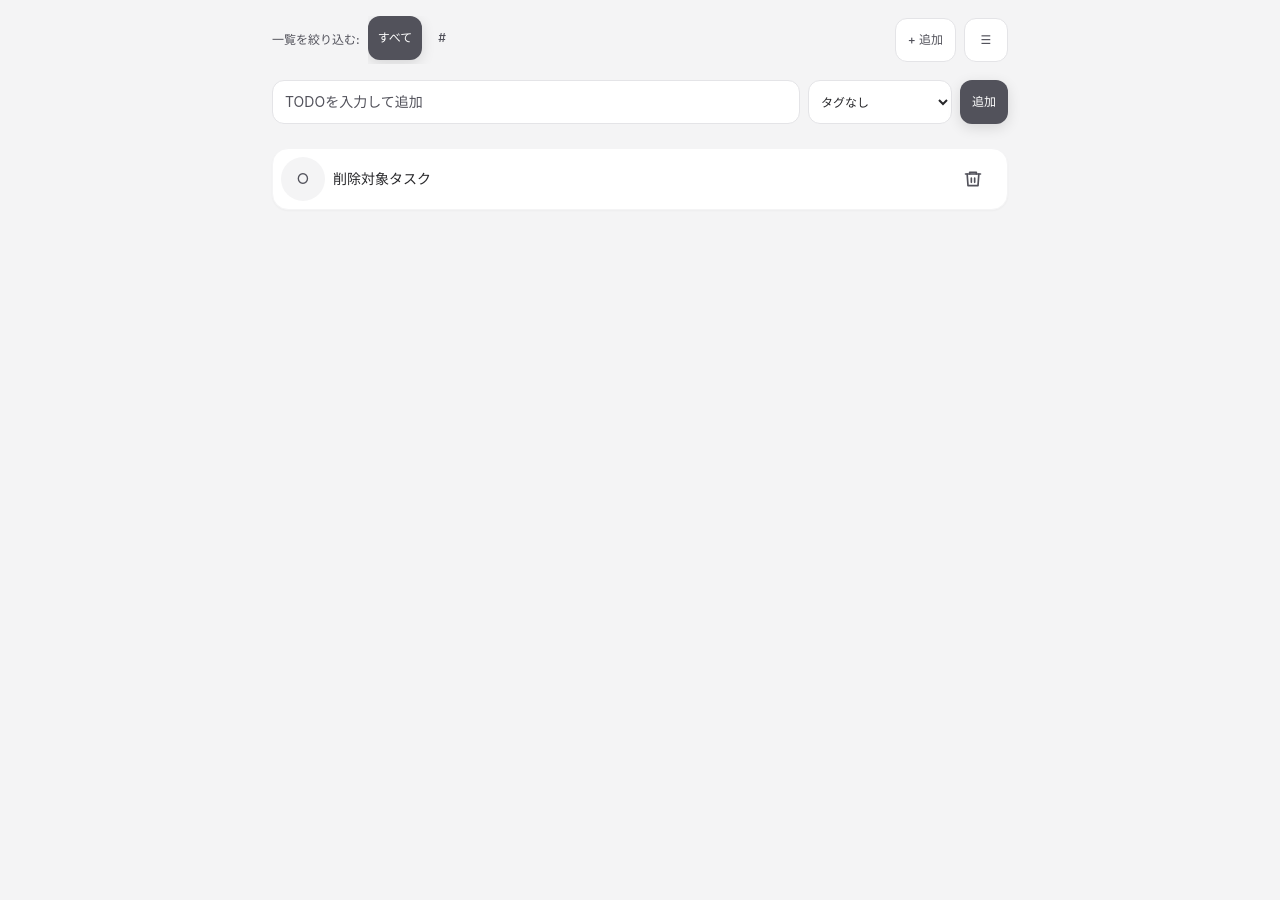
Scenario: TodoListPage › shows a toast and refetches when the delete target no longer exists (404)
This screenshot has width=1280, height=900.
Click the button named "「削除対象タスク」を削除".
click(977, 179)  # box x1=955 y1=157 x2=999 y2=201
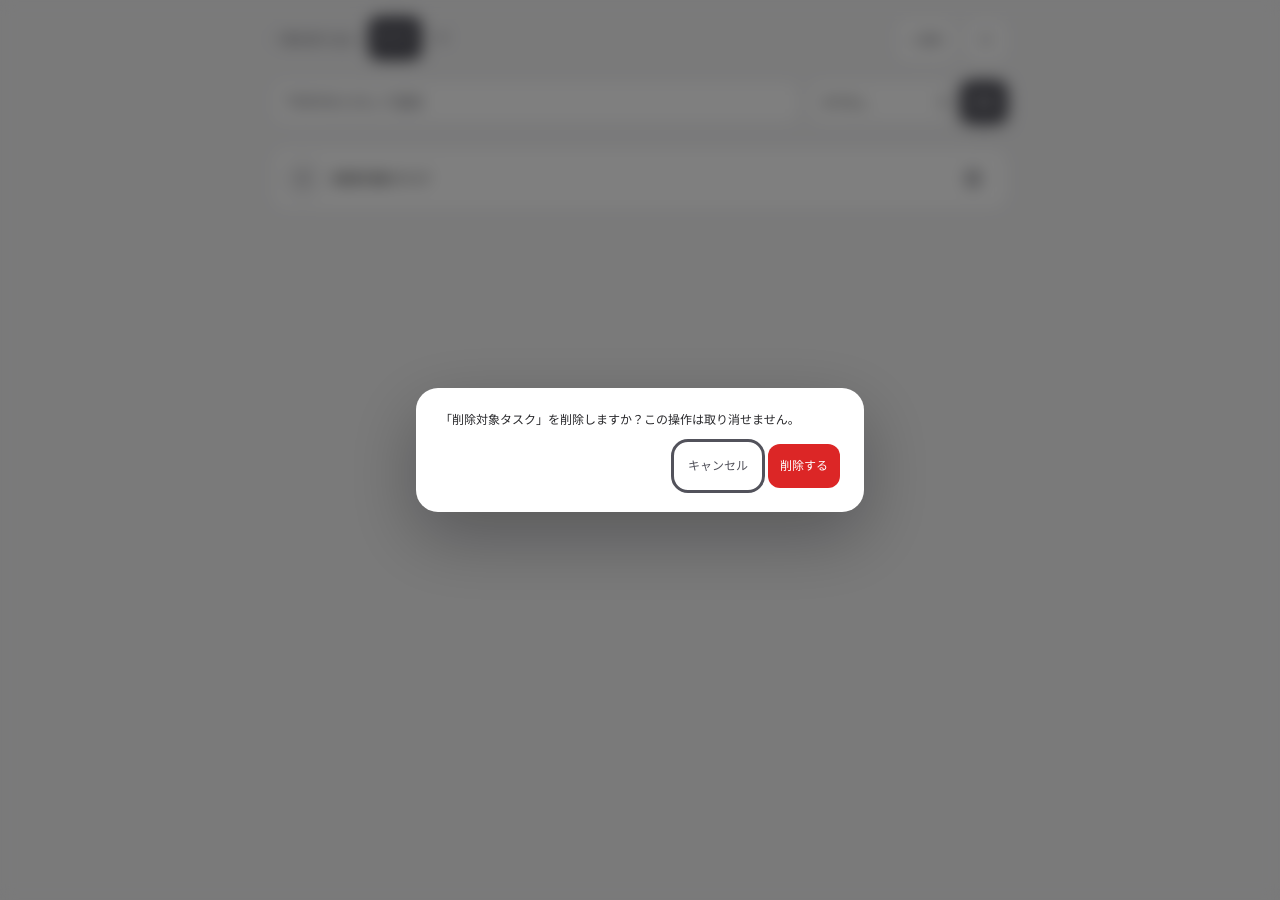
Click the button "削除する".
click(804, 466)  # box x1=768 y1=444 x2=840 y2=488
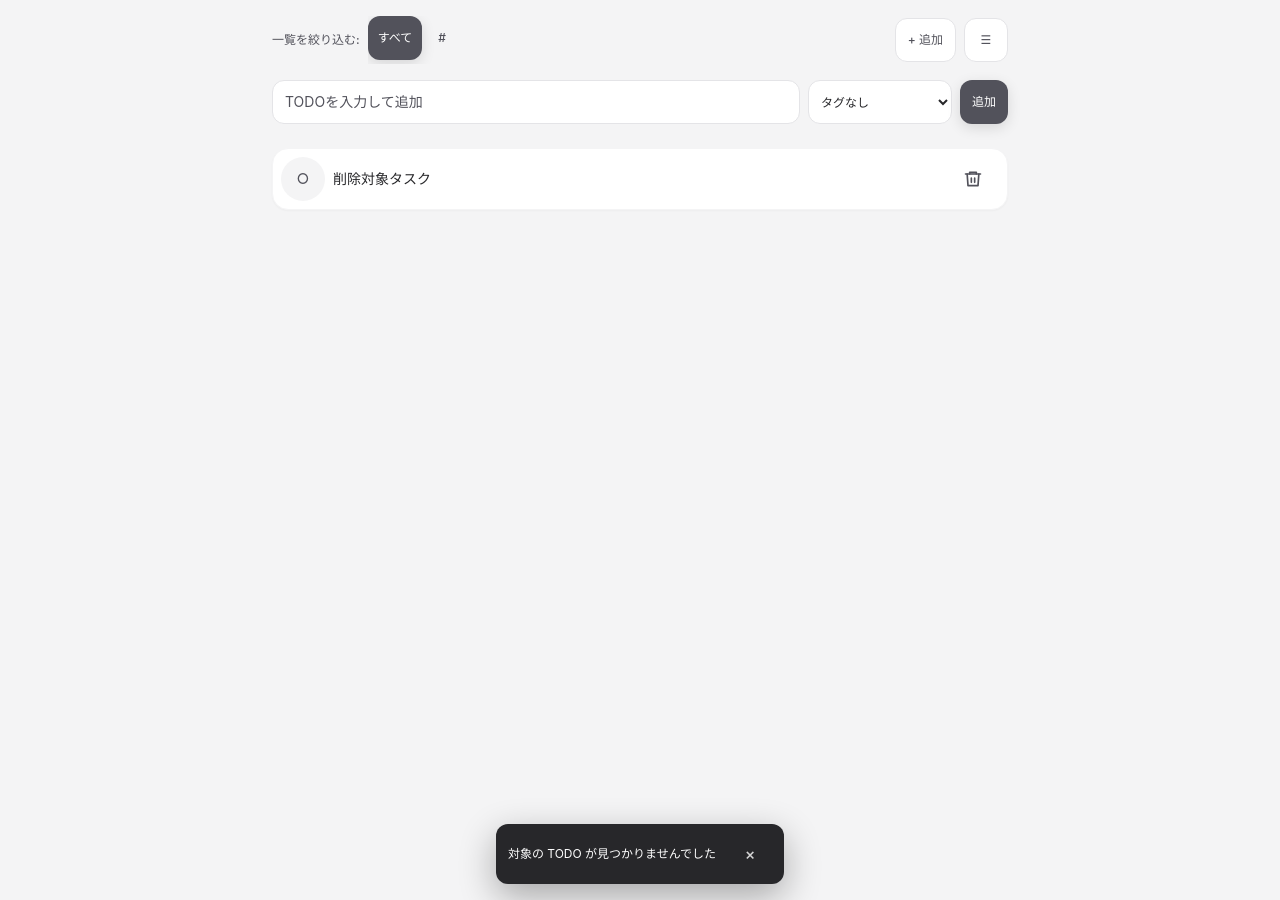
Now the text "対象の TODO が見つかりませんでした" is shown, box x1=508 y1=846 x2=716 y2=862
Now the dialog "TODOを削除" is gone
